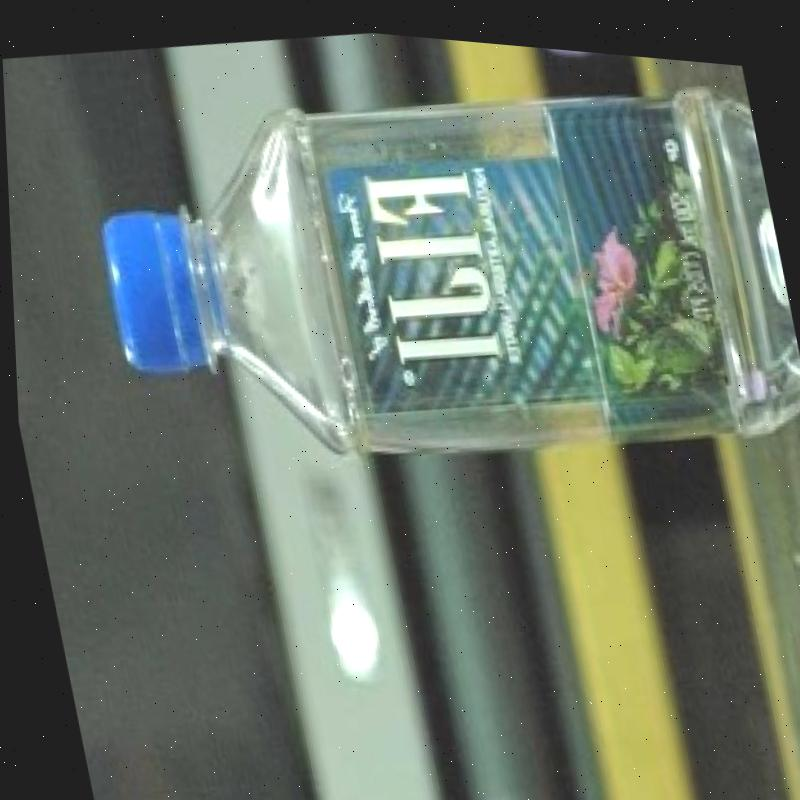botella: (70, 10, 800, 523)
